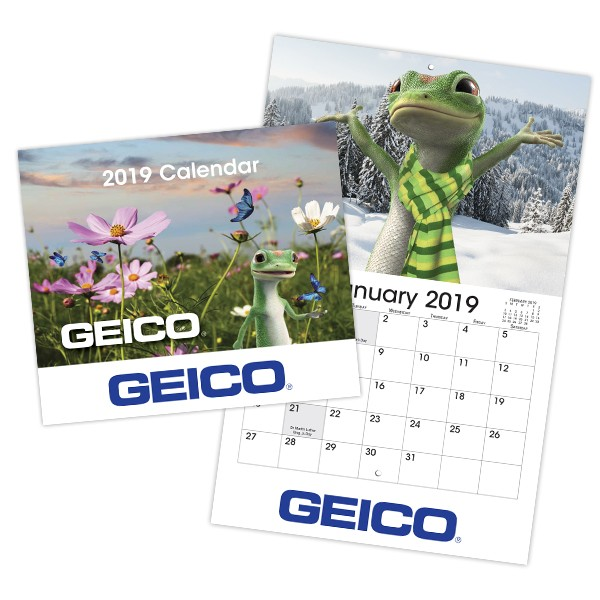Geico: (276, 484, 470, 549), (107, 360, 297, 399), (51, 309, 213, 349)
